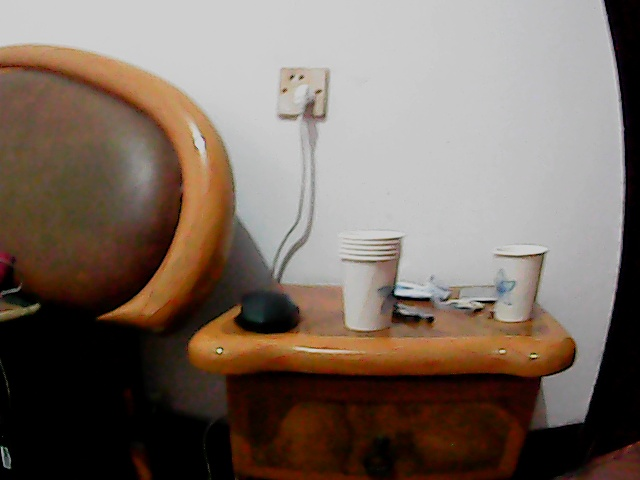cup: (336, 229, 405, 335)
mouse: (233, 288, 301, 336)
